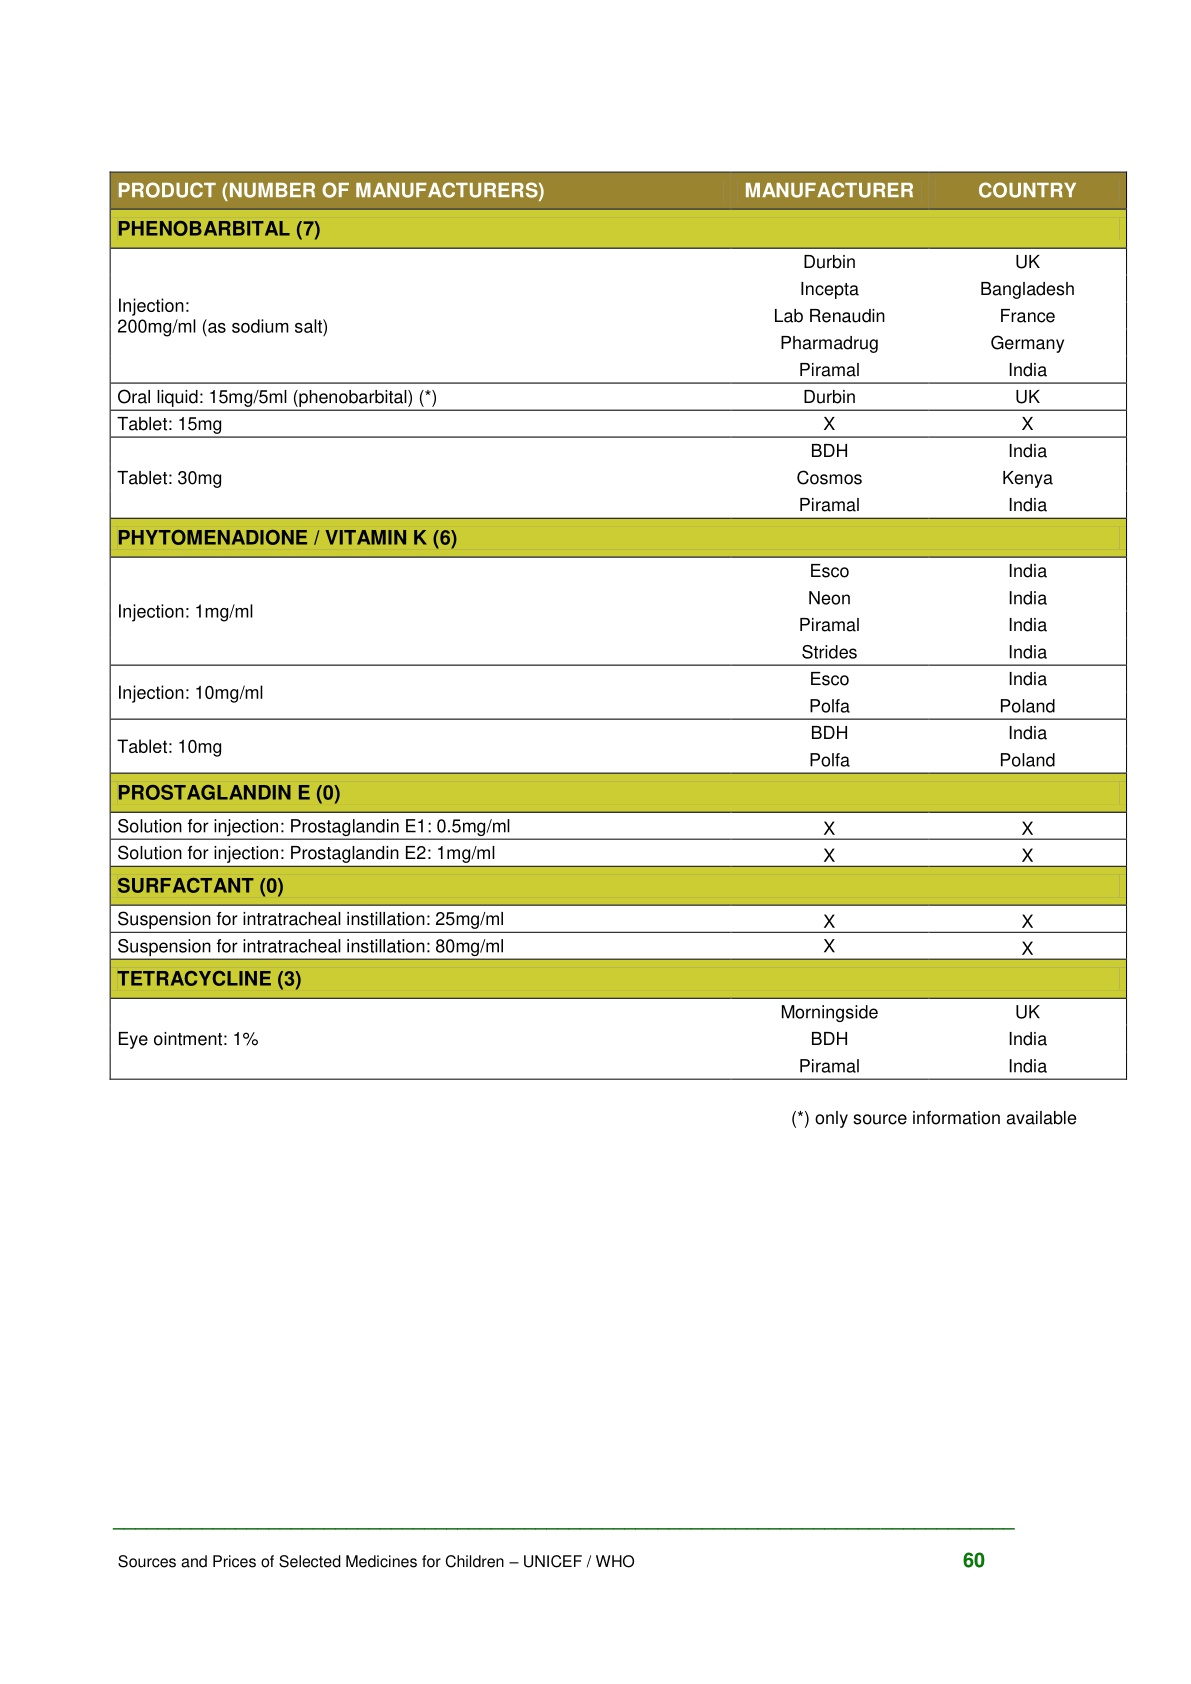partial_lined_merged_cells: (108, 171, 1128, 1081)
